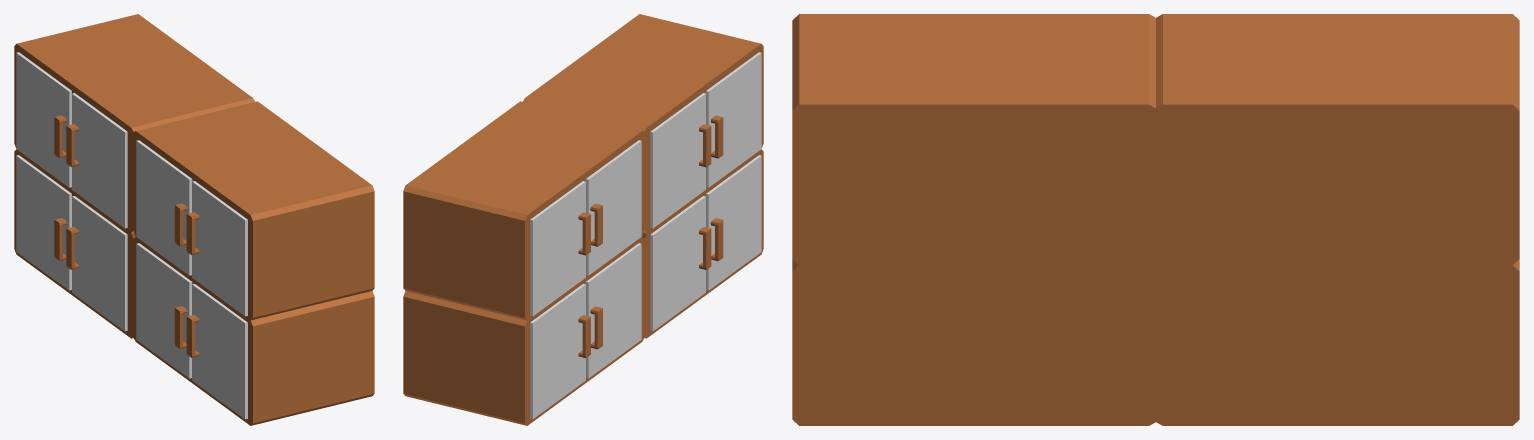
Rendered from lemari 3.fbx.
3 views of the same model, side by side, from view 1: azimuth 30°, elevation 25°; view 2: azimuth 150°, elevation 25°; view 3: azimuth 270°, elevation 25° (orthographic). The views are drawn at different scales.
Visible parts, largest first — view 1: Cube.003, Cube, Cube.004; view 2: Cube.003, Cube, Cube.004; view 3: Cube.003.
Boxes of the visible parts, bbox=[...] form: Cube.003: bbox=[14, 14, 374, 425]; Cube: bbox=[16, 52, 247, 419]; Cube.004: bbox=[54, 115, 199, 357]; Cube.003: bbox=[403, 14, 763, 425]; Cube: bbox=[530, 52, 761, 419]; Cube.004: bbox=[578, 115, 723, 357]; Cube.003: bbox=[792, 14, 1519, 425].
Bounding box in the file's own units: 67.22 × 102 × 210.
